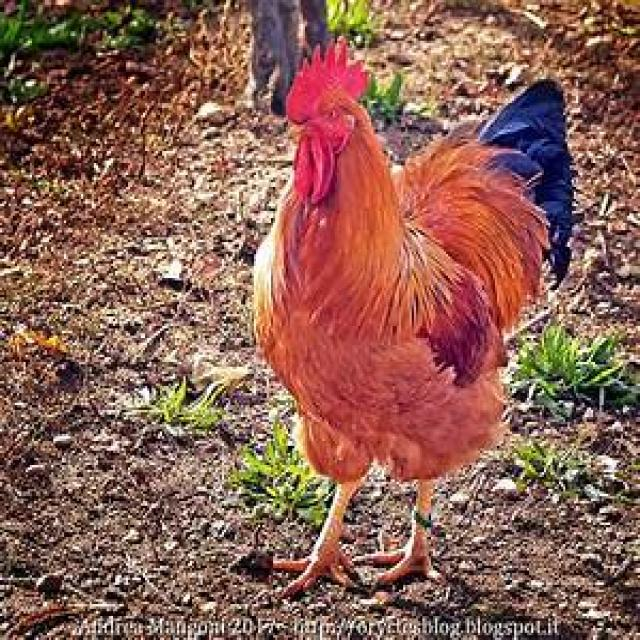animal: (225, 34, 585, 586)
